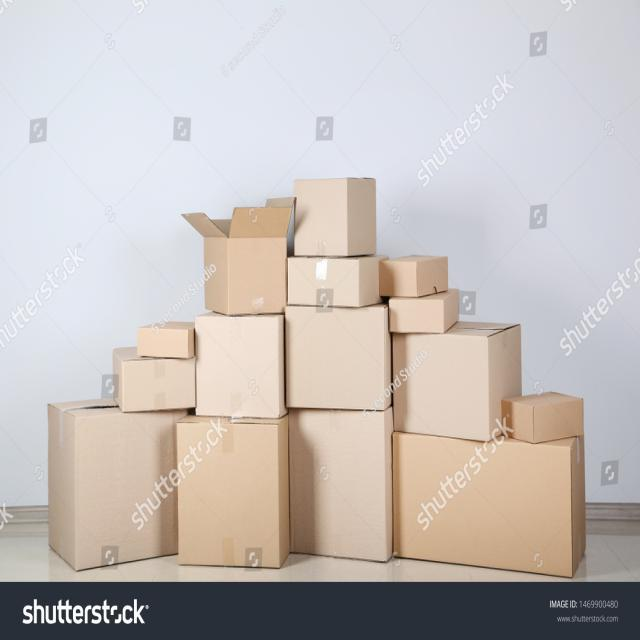BoxFace: (392, 432, 574, 580), (76, 413, 190, 571), (286, 406, 388, 564), (178, 427, 278, 567), (284, 306, 386, 411), (392, 336, 490, 440), (197, 316, 280, 420), (226, 239, 287, 316), (296, 178, 350, 255), (120, 361, 195, 412), (286, 260, 361, 306), (532, 397, 584, 445), (388, 299, 444, 333), (137, 328, 190, 360), (378, 260, 418, 298)
